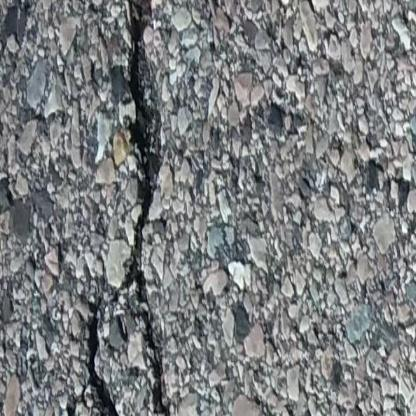Cracks: (63, 0, 176, 416)
